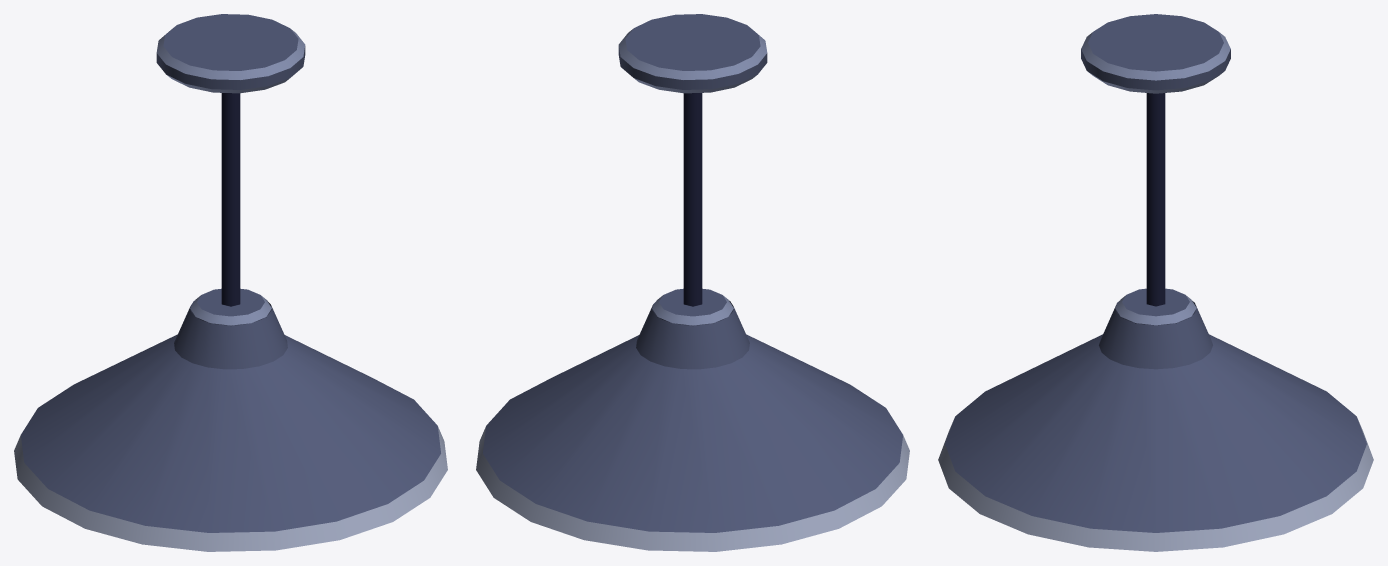
The model's file is Lamp_Ceiling.fbx.
The picture shows the model from 3 angles, left to right: view 1: azimuth 30°, elevation 25°; view 2: azimuth 150°, elevation 25°; view 3: azimuth 270°, elevation 25°; orthographic projection.
Visible parts, largest first — view 1: Lamp_Ceiling; view 2: Lamp_Ceiling; view 3: Lamp_Ceiling.
Part boxes in pixels (x1,y1,x2,y2): Lamp_Ceiling: [14, 14, 447, 551]; Lamp_Ceiling: [476, 14, 909, 551]; Lamp_Ceiling: [938, 14, 1373, 551].
Bounding box in the file's own units: 3.2 × 3.47 × 3.2.
1 material, 1 textured.
